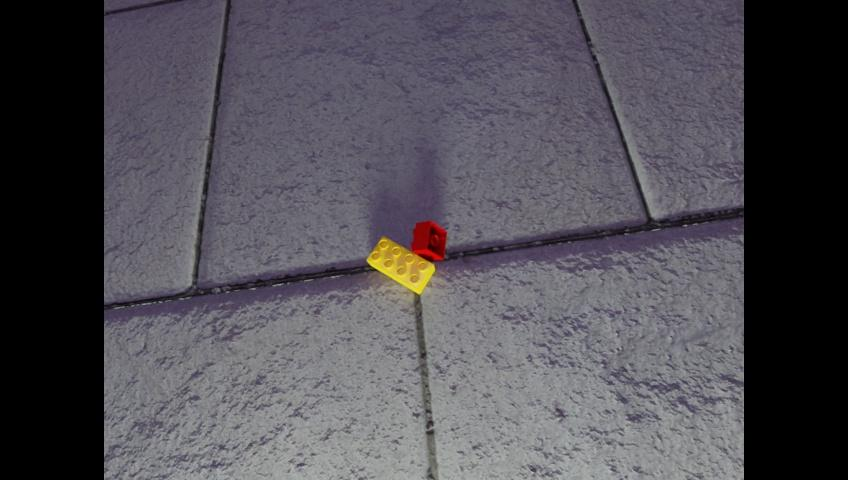2x2_red: (410, 220, 446, 260)
4x2_yellow: (366, 235, 434, 293)
